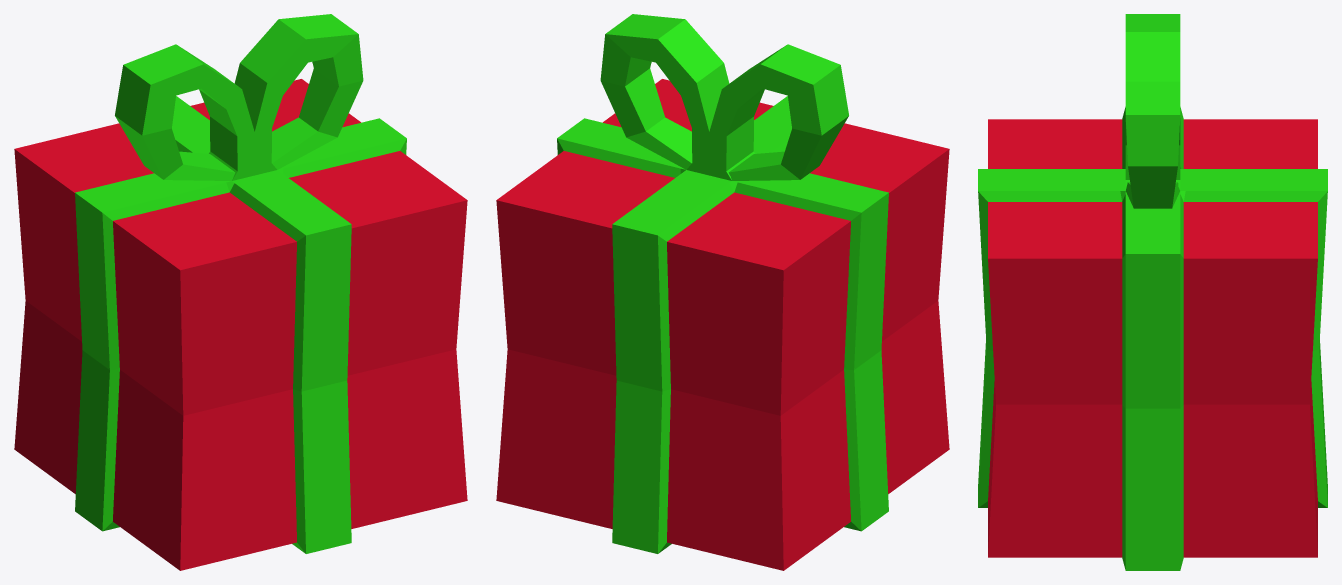
File: Present.fbx
The picture shows the model from 3 angles, left to right: view 1: azimuth 30°, elevation 25°; view 2: azimuth 150°, elevation 25°; view 3: azimuth 270°, elevation 25°; orthographic projection.
Parts seen in each view (by area): view 1: Cube; view 2: Cube; view 3: Cube.
Part boxes in pixels (x1=…): Cube: x1=14, y1=14, x2=467, y2=570; Cube: x1=496, y1=14, x2=949, y2=570; Cube: x1=978, y1=14, x2=1327, y2=570.
Bounding box in the file's own units: 261 × 362 × 261.
